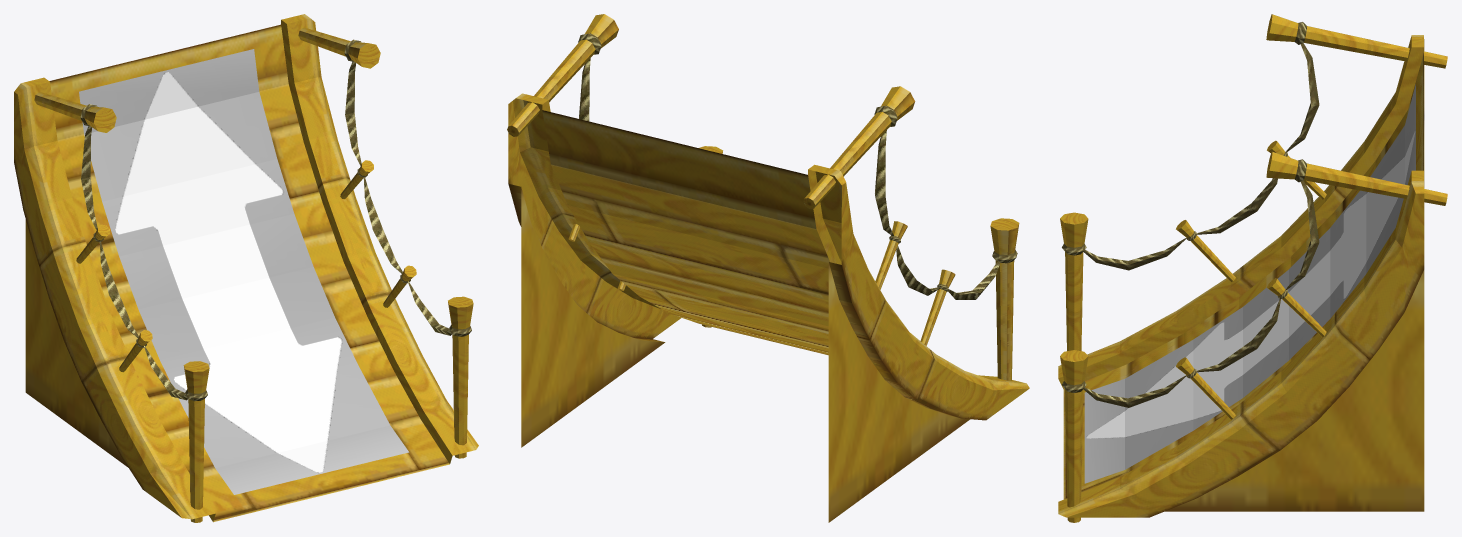
Rendered from MysteryGravityRoomBridgeA_bake.dae.
The picture shows the model from 3 angles, left to right: view 1: azimuth 30°, elevation 25°; view 2: azimuth 150°, elevation 25°; view 3: azimuth 270°, elevation 25°; orthographic projection. The views are drawn at different scales.
Visible parts, largest first — view 1: m1, m0, m0_VC, m2; view 2: m1, m2; view 3: m1, m0, m0_VC, m2.
Part boxes in pixels (box(x1,y1,x2,y2)): m1: box(14, 14, 478, 522); m0: box(115, 71, 342, 473); m0_VC: box(79, 49, 408, 494); m2: box(80, 39, 471, 401); m1: box(507, 14, 1029, 522); m2: box(578, 33, 1017, 299); m1: box(1058, 14, 1447, 522); m0: box(1086, 130, 1415, 438); m0_VC: box(1084, 84, 1415, 483); m2: box(1062, 22, 1319, 407).
Bounding box in the file's own units: 400 × 445 × 426.
4 materials, 4 textured.
